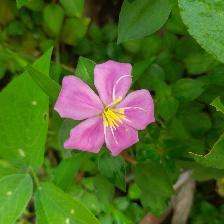malabar melastome: (54, 60, 157, 155)
